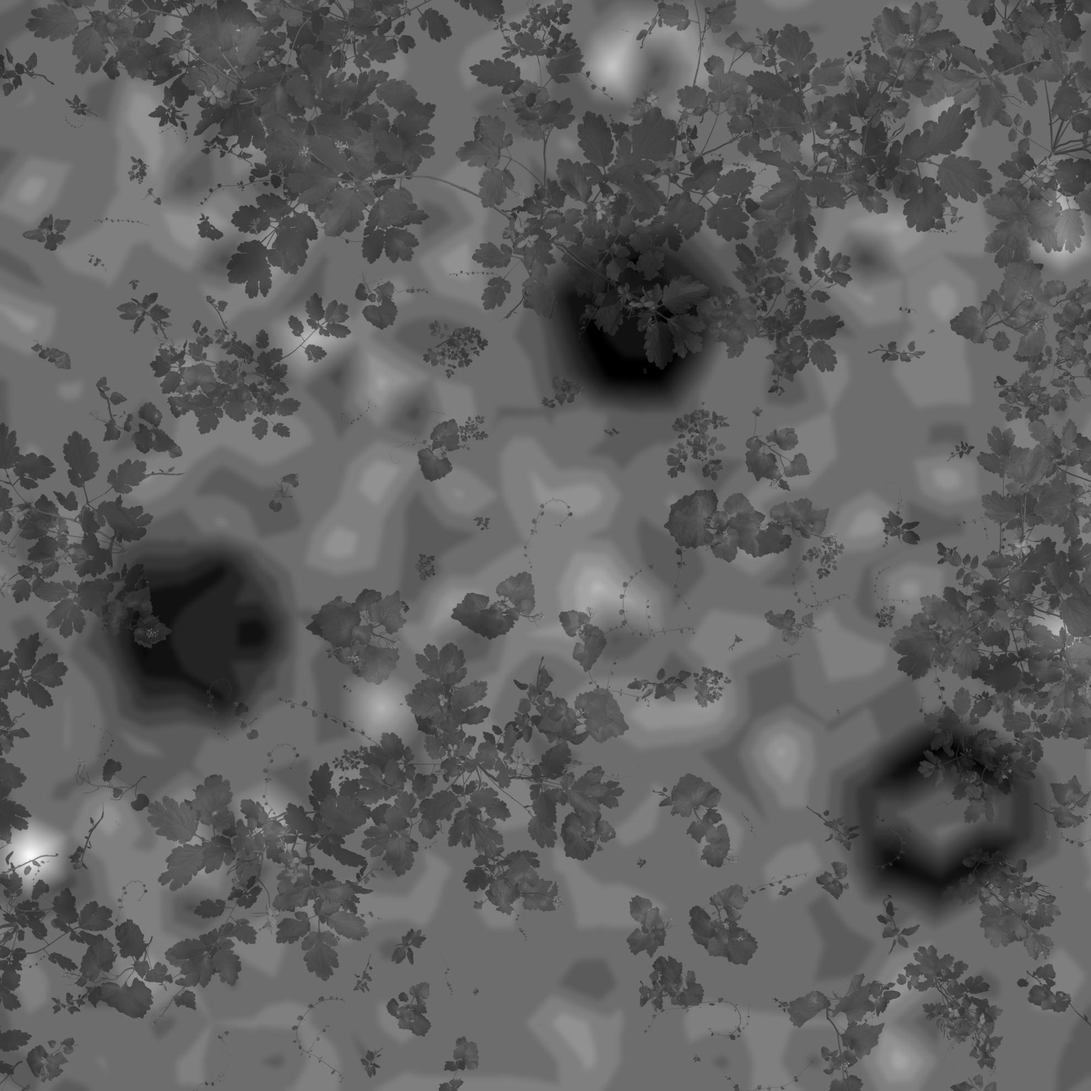landmine: (868, 729, 1031, 908), (118, 543, 284, 718), (560, 247, 696, 380)
